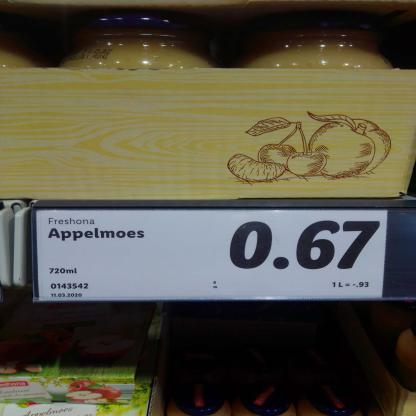prtg: (36, 212, 389, 303)
